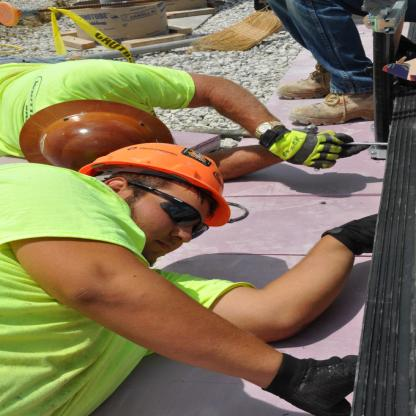Helmet: (74, 142, 239, 231), (19, 99, 178, 170)
